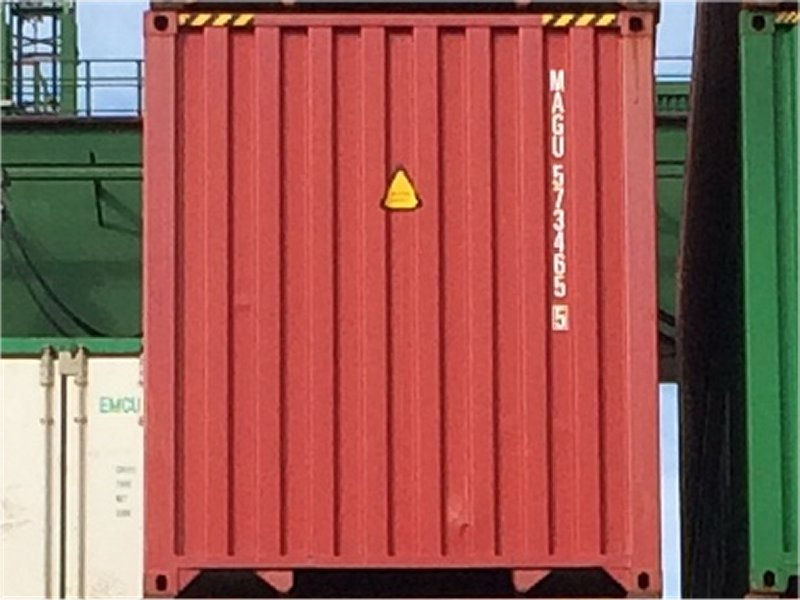container_no_door: (140, 10, 666, 596)
